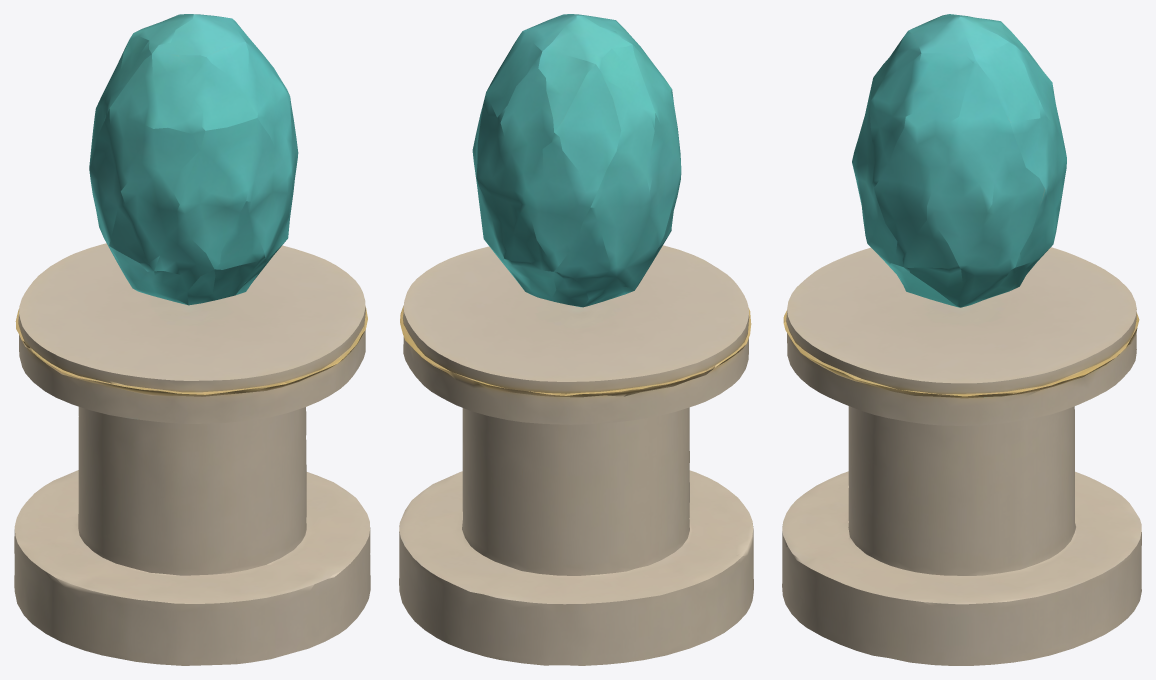
File: pedestal.glb
The picture shows the model from 3 angles, left to right: view 1: azimuth 30°, elevation 25°; view 2: azimuth 150°, elevation 25°; view 3: azimuth 270°, elevation 25°; orthographic projection.
Visible parts, largest first — view 1: Mesh.002; view 2: Mesh.002; view 3: Mesh.002.
Part boxes in pixels (box(x1,y1,x2,y2)): Mesh.002: box(14, 14, 370, 665); Mesh.002: box(399, 14, 753, 665); Mesh.002: box(782, 14, 1141, 665).
Size of the model in its own units: 1.06 by 1.89 by 1.07.
Materials: 1 (1 with a texture image).
